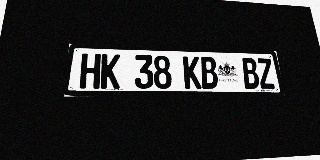3: (135, 55, 153, 89)
8: (153, 55, 172, 89)
B: (200, 57, 219, 89), (241, 58, 260, 89)
H: (79, 53, 101, 89)
K: (100, 54, 120, 89), (183, 56, 202, 89)
Z: (256, 58, 276, 89)
